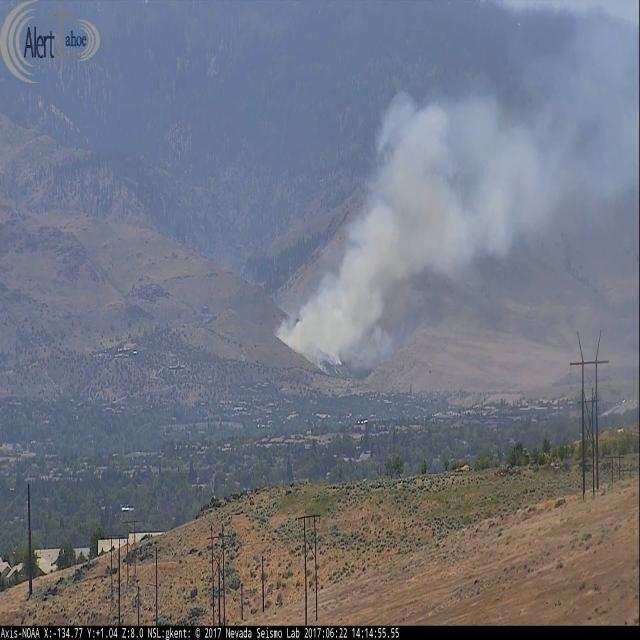smoke: (274, 88, 534, 374)
